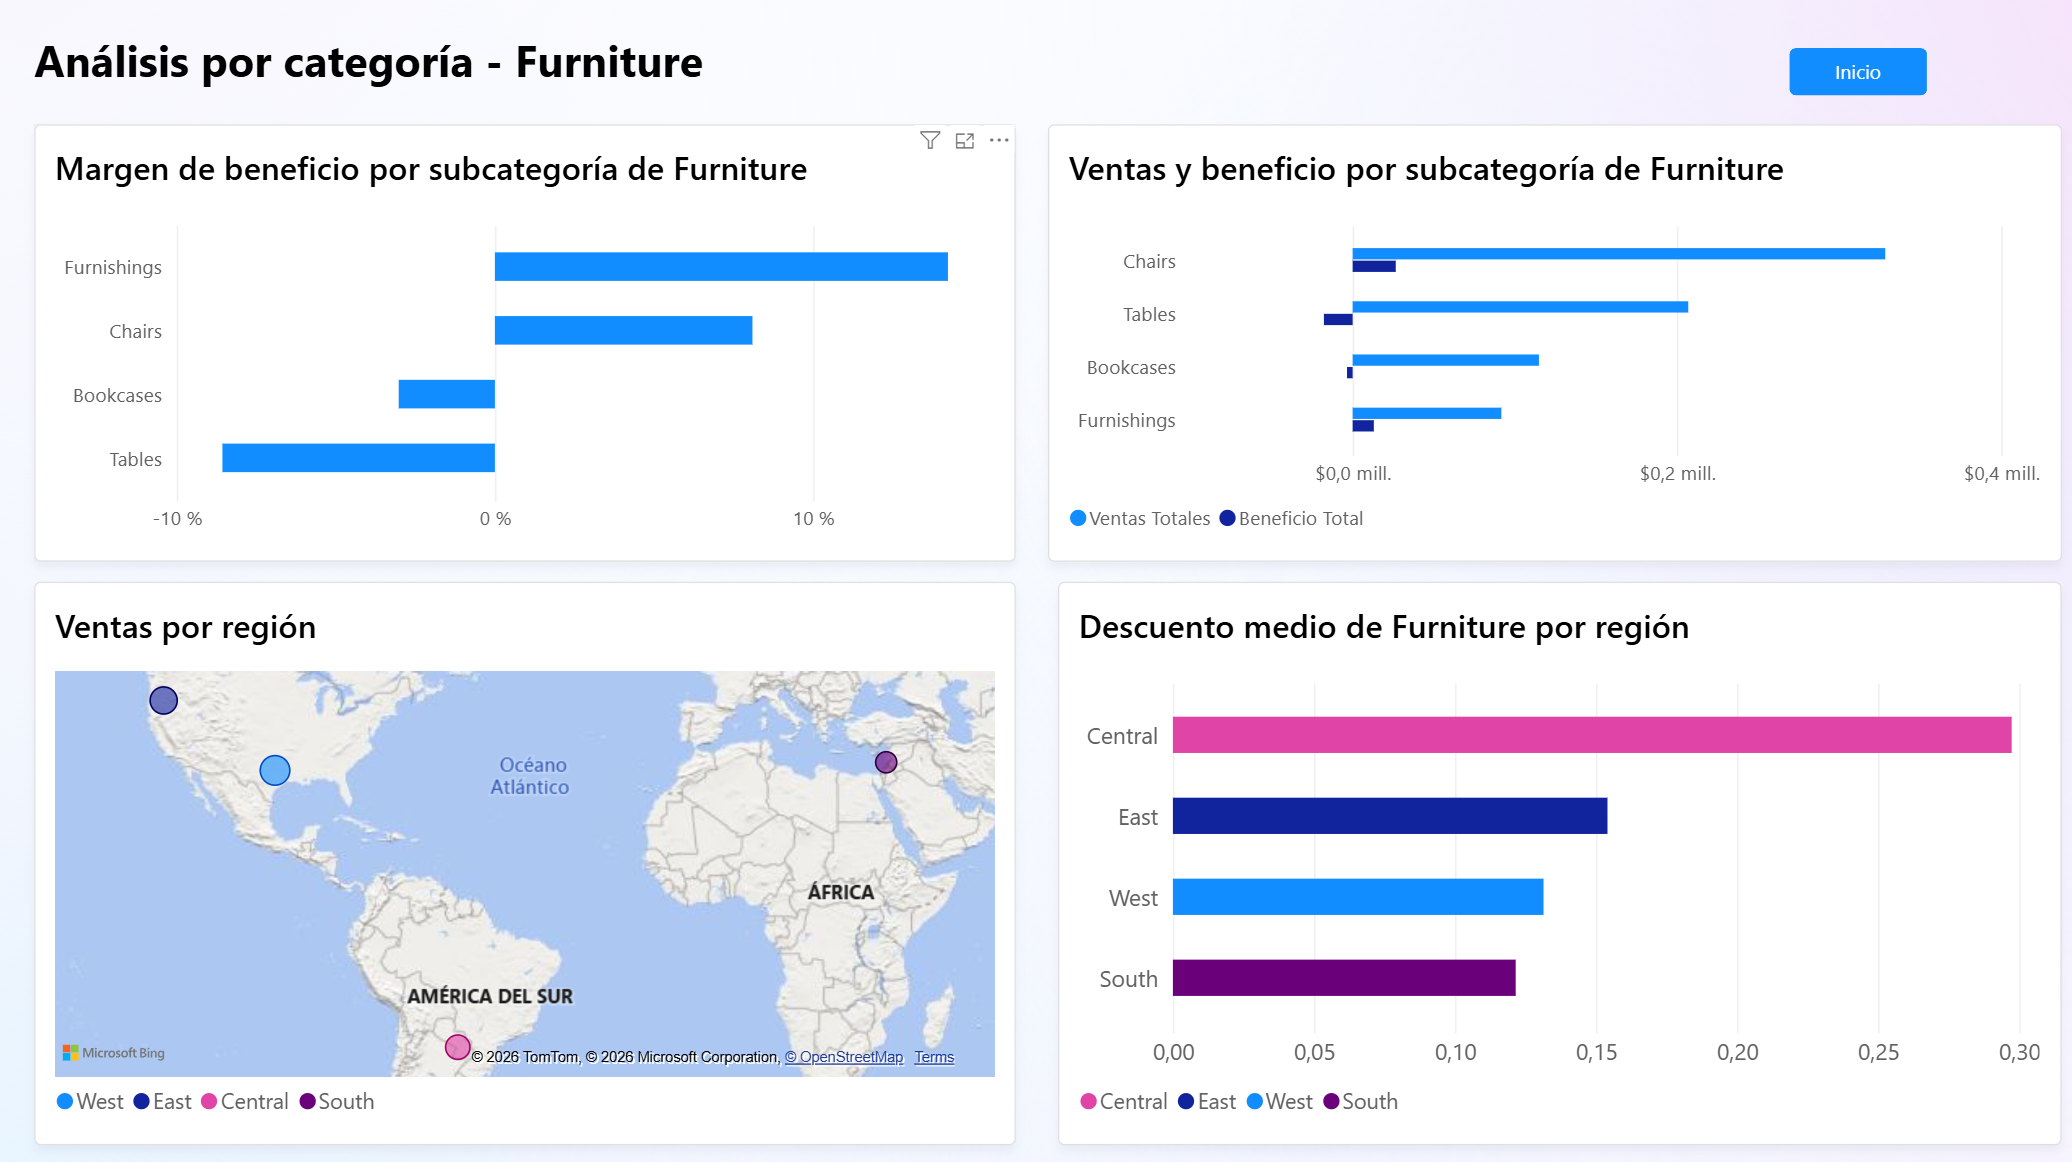

What the dashboard file says about the page in this screenshot:
{"tool":"powerbi","page":{"name":"Análisis por categoría (Furniture) ","canvas":[1280,720],"ordinal":2},"visuals":[{"type":"barChart","title":"Margen de beneficio por subcategoría  de Furniture","fields":{"Category":["Sample - Superstore.Sub-Category"],"Y":["Sample - Superstore._Net_Profit_Margin"]},"box":[22.1,78,605.1,269.3],"z":0},{"type":"clusteredBarChart","title":"Ventas y beneficio por subcategoría de Furniture","fields":{"Category":["Sample - Superstore.Sub-Category"],"Y":["Sample - Superstore._Total_Sales","Sample - Superstore._Total_Profit"]},"box":[646.7,78,624.6,269.3],"z":1000},{"type":"map","title":"Ventas por región ","fields":{"Size":["Sample - Superstore._Total_Sales"],"Series":["Sample - Superstore.Region"],"Category":["Sample - Superstore.Region"]},"box":[22.1,359.7,605.1,347.3],"z":2000},{"type":"barChart","title":"Descuento medio de Furniture por región","fields":{"Category":["Sample - Superstore.Region"],"Y":["Avg(Sample - Superstore.Discount)"],"Series":["Sample - Superstore.Region"]},"box":[652.9,359.7,618.4,347.3],"z":3000},{"type":"textbox","box":[22.1,20.4,470.4,57.6],"z":4000},{"type":"actionButton","box":[1103.9,31,85.1,29.2],"z":5000}]}

Visuals, with their boxes in screenshot pixels (x1, y1, x2, y2), scaled from the page's 1280x720 canvas onto the 2072x1162 screenshot:
"Margen de beneficio por subcategoría  de Furniture" barChart: box(36, 126, 1015, 561)
"Ventas y beneficio por subcategoría de Furniture" clusteredBarChart: box(1047, 126, 2058, 561)
"Ventas por región " map: box(36, 581, 1015, 1141)
"Descuento medio de Furniture por región" barChart: box(1057, 581, 2058, 1141)
textbox: box(36, 33, 797, 126)
actionButton: box(1787, 50, 1925, 97)
